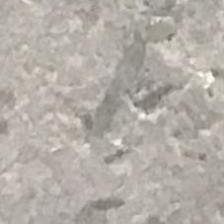Crack: (70, 0, 224, 169)
